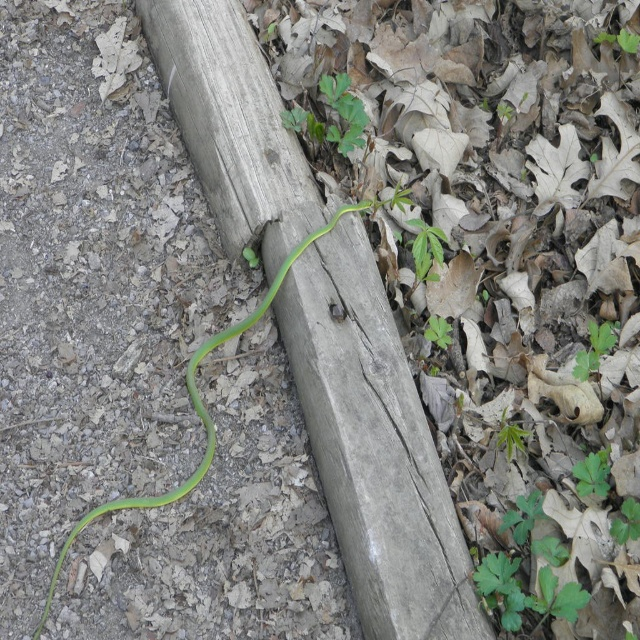Snake: (33, 198, 373, 640)
